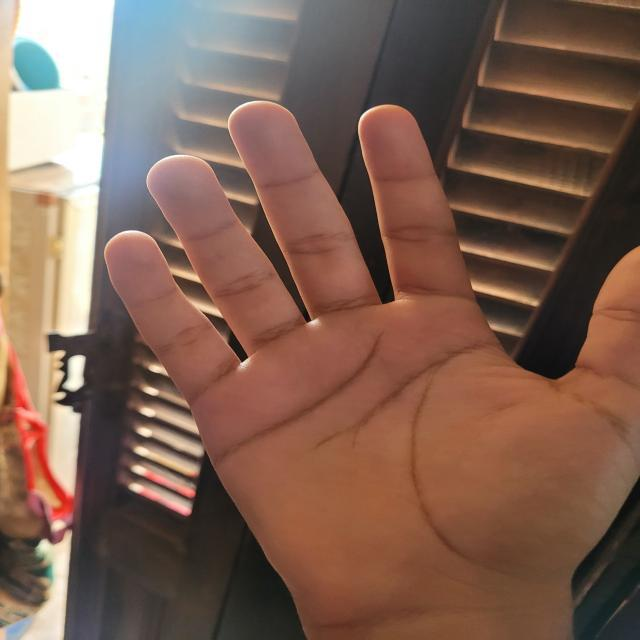Open Hand: (101, 97, 640, 629)
